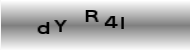4: (103, 14, 118, 28)
R: (84, 9, 98, 23)
Y: (52, 18, 67, 33)
d: (35, 20, 50, 35)
l: (119, 15, 125, 30)
